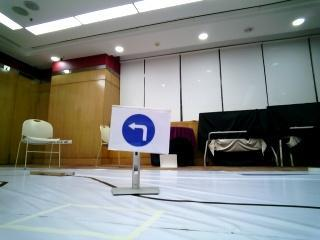left: (112, 107, 169, 152)
